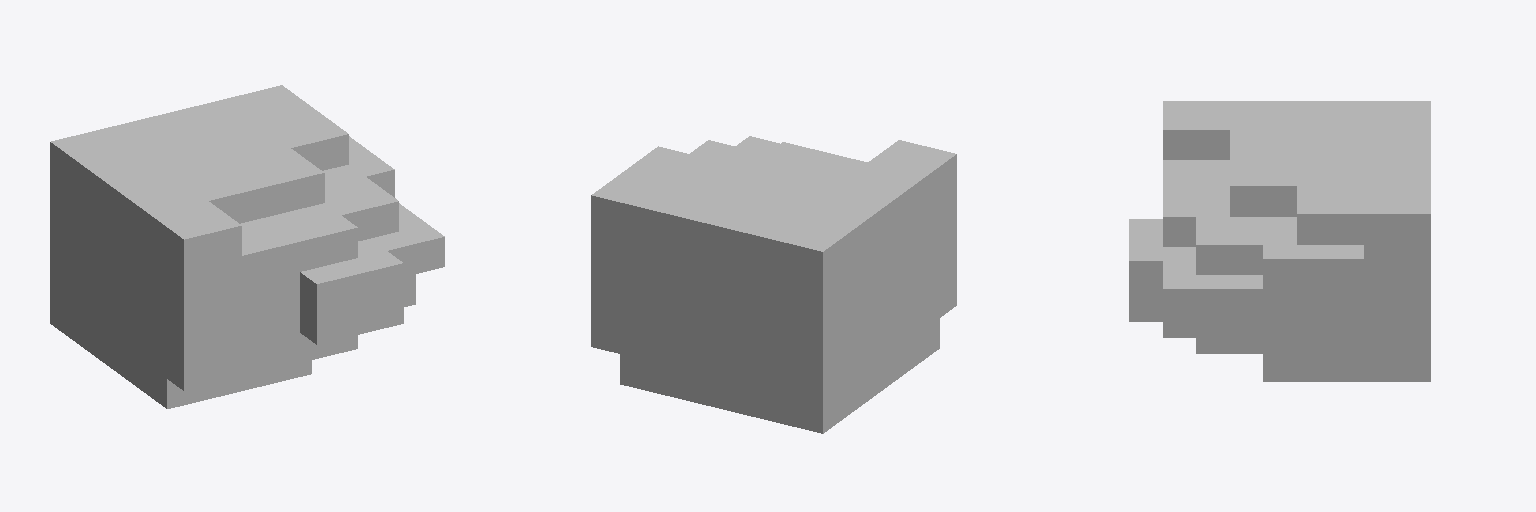
Rendered from cliff corner1.obj.
The picture shows the model from 3 angles: view 1: azimuth 30°, elevation 25°; view 2: azimuth 150°, elevation 25°; view 3: azimuth 270°, elevation 25°; orthographic projection.
Bounding box in the file's own units: 9 × 6 × 9.